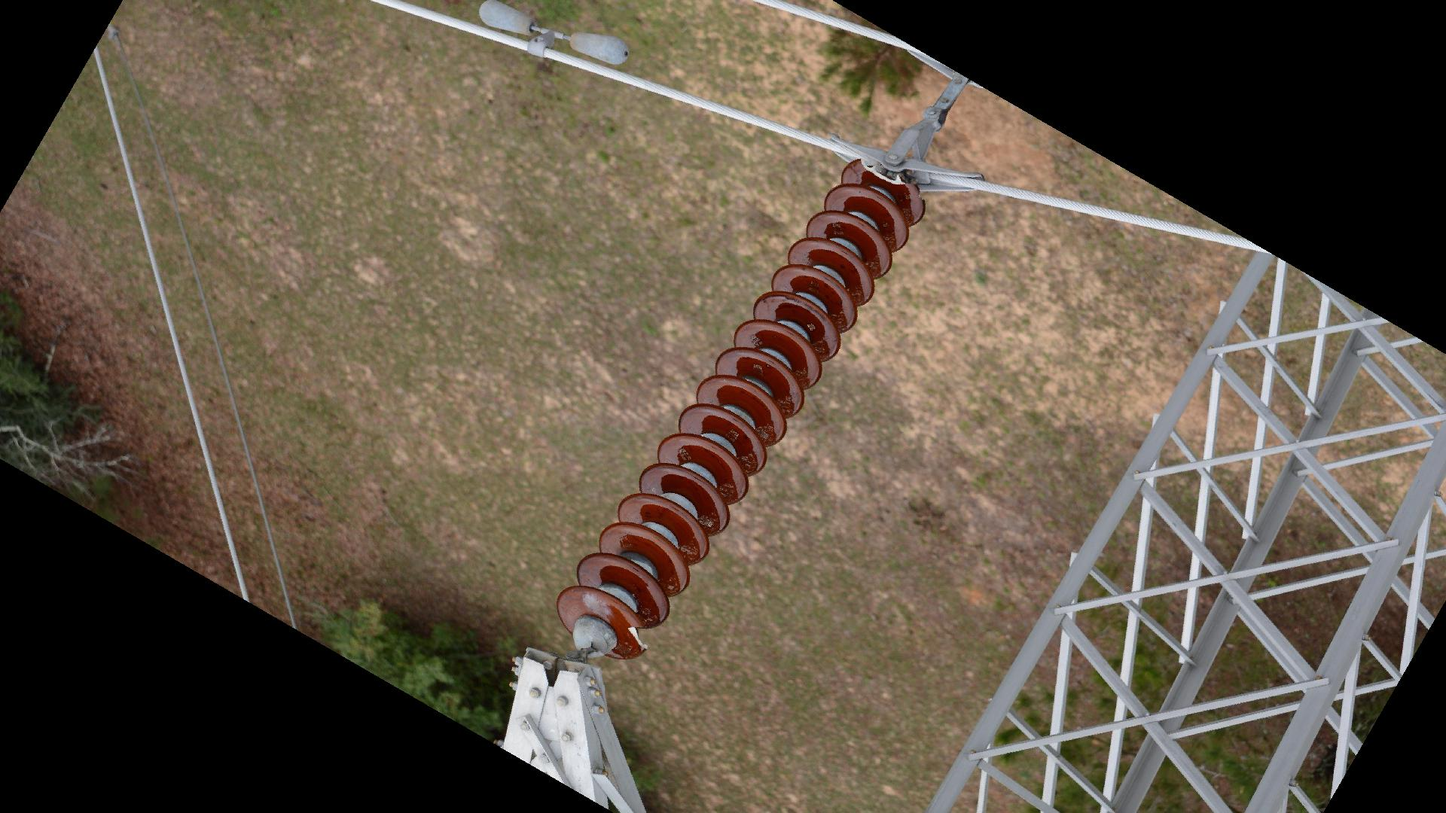insulator: (551, 149, 933, 671)
insulator_breakage: (855, 154, 915, 191), (624, 617, 654, 659)
